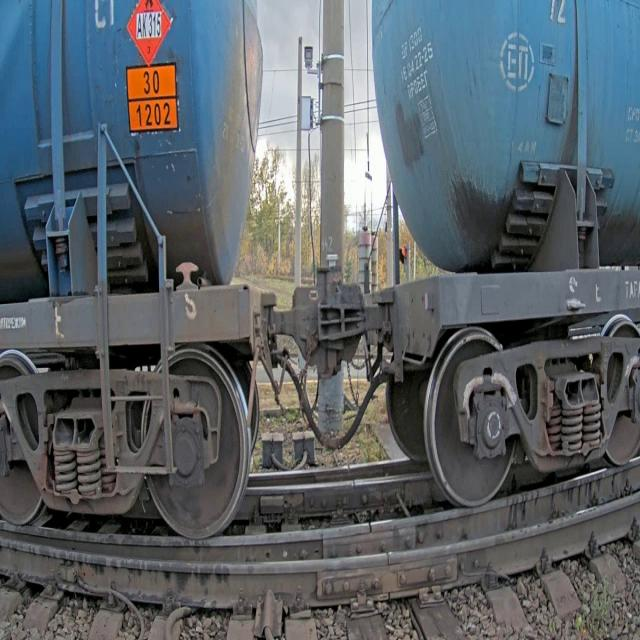tank: (357, 0, 640, 544), (0, 0, 274, 558)
